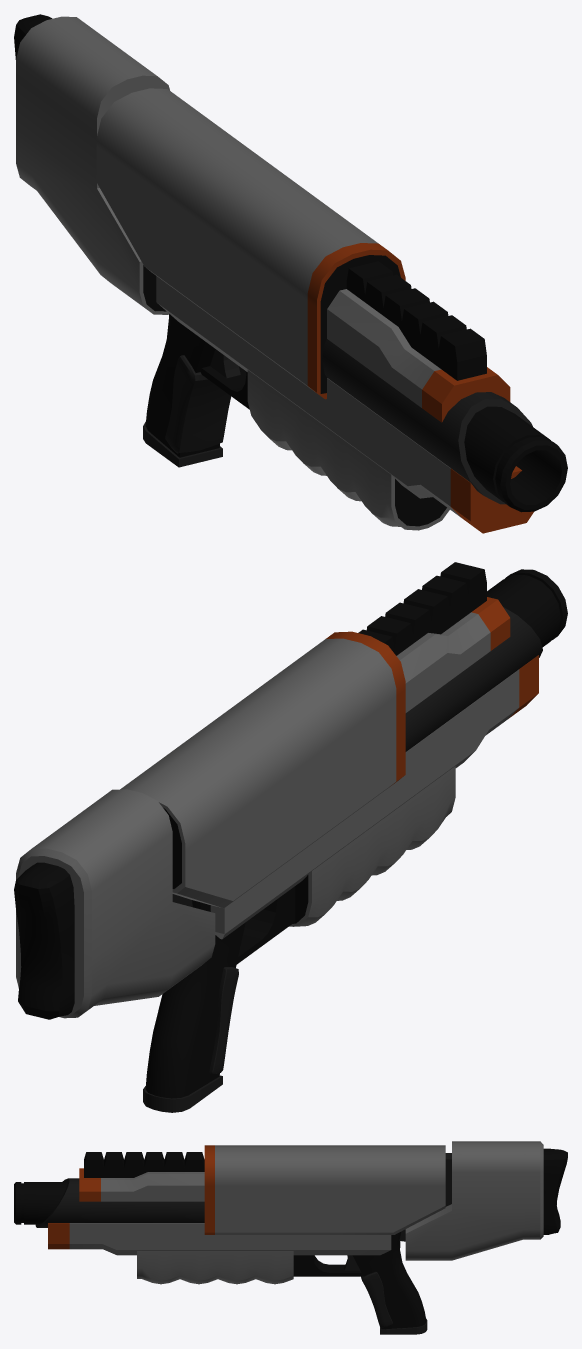
The model's file is Grenade_2.fbx.
The picture shows the model from 3 angles, top to bottom: view 1: azimuth 30°, elevation 25°; view 2: azimuth 150°, elevation 25°; view 3: azimuth 270°, elevation 25°; orthographic projection. The views are drawn at different scales.
Parts seen in each view (by area): view 1: Grenade_2; view 2: Grenade_2; view 3: Grenade_2.
Boxes of the visible parts, x1=… form: Grenade_2: x1=14, y1=14, x2=567, y2=533; Grenade_2: x1=14, y1=562, x2=567, y2=1112; Grenade_2: x1=14, y1=1141, x2=567, y2=1334.
Size of the model in its own units: 0.1876 by 0.6803 by 1.86.
